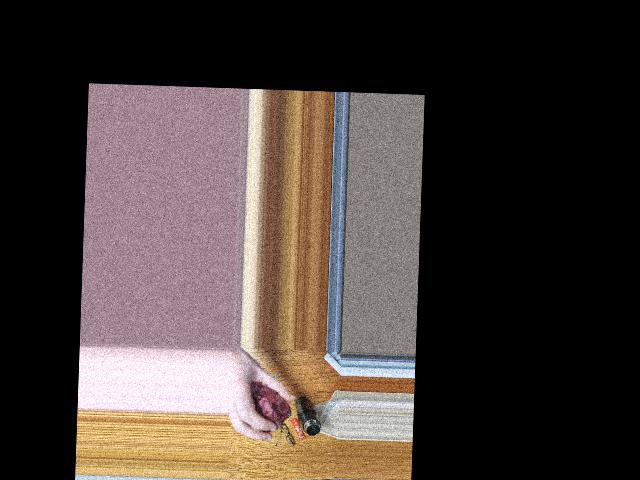onion: (247, 385, 288, 433)
